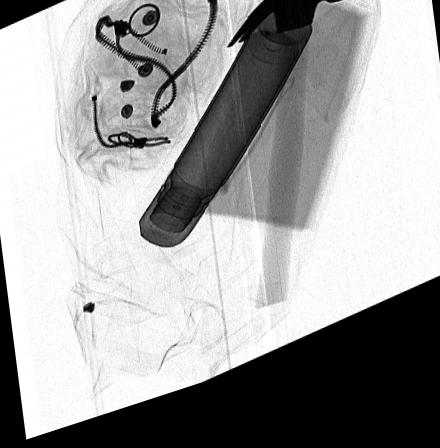Hammer: (225, 0, 353, 326)
